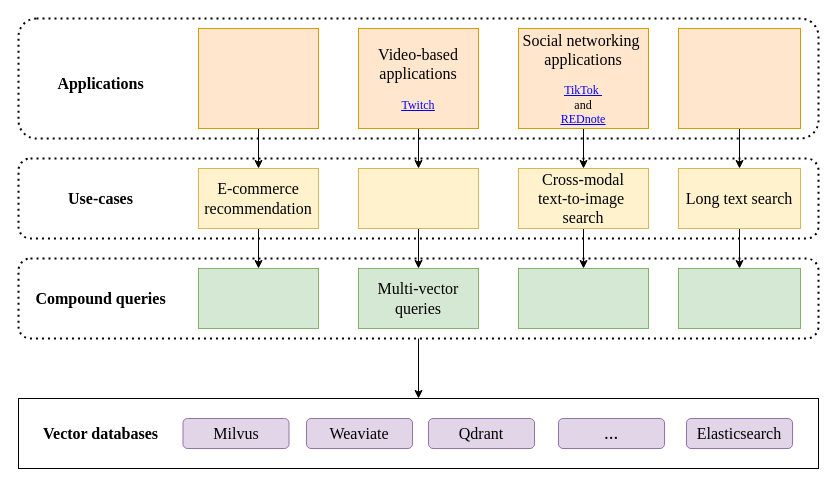
The diagram is 836 pixels wide and 486 high, and some of its shapes have lost their labels. Each missing label, with the centre of its shape:
"Big queries" goes at [739,298].
"E-commerce applications Amazon book" goes at [258,78].
"Filter queries" goes at [258,298].
"Keyframe recommendation" goes at [418,198].
"Literature retrieval applications" goes at [739,78].
"Multimodal queries" goes at [583,298].
